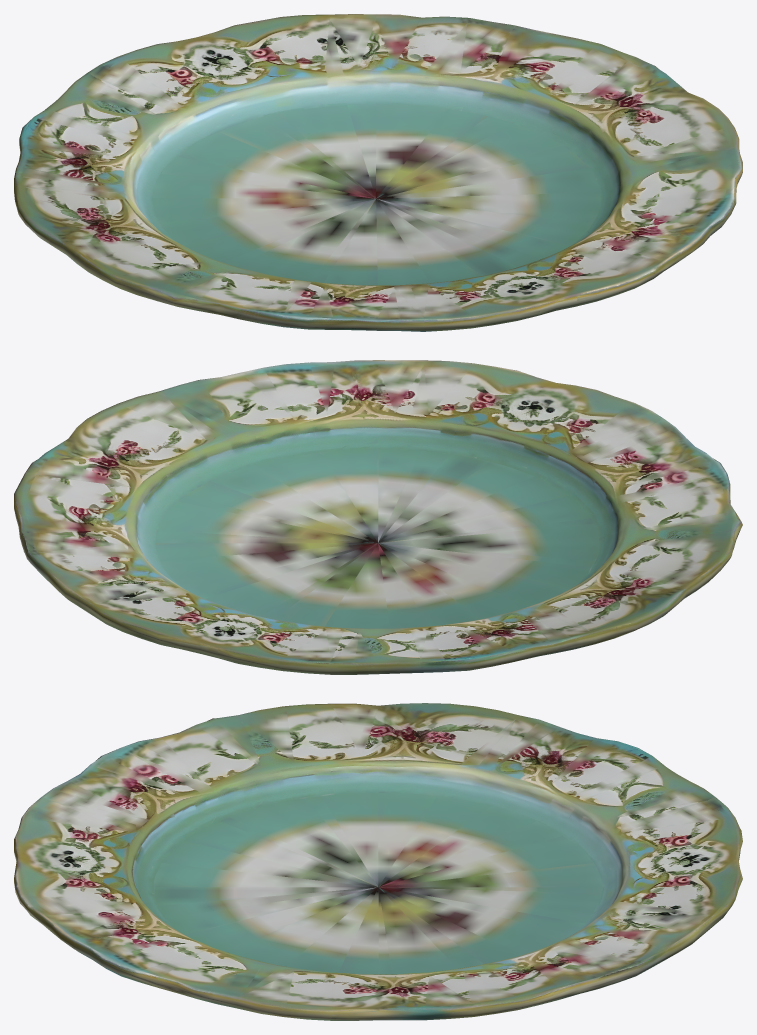
The model's file is ANTOINETTE_dinner_pla_0308225955_texture.glb.
3 views of the same model, one above another, from view 1: azimuth 30°, elevation 25°; view 2: azimuth 150°, elevation 25°; view 3: azimuth 270°, elevation 25° (orthographic).
Parts seen in each view (by area): view 1: Mesh_0; view 2: Mesh_0; view 3: Mesh_0.
Boxes of the visible parts, bbox=[...] form: Mesh_0: bbox=[14, 14, 742, 331]; Mesh_0: bbox=[14, 360, 742, 674]; Mesh_0: bbox=[14, 703, 742, 1020].
Bounding box in the file's own units: 0.3343 × 0.0254 × 0.3323.
1 material, 1 textured.
